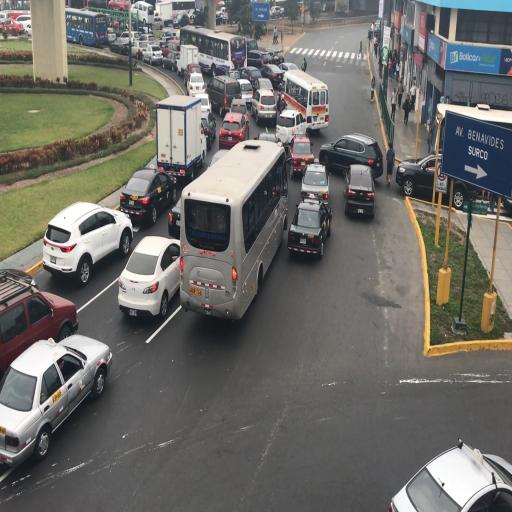auto: (1, 333, 113, 471), (1, 269, 76, 393), (388, 438, 510, 510), (42, 196, 131, 280), (396, 150, 491, 208), (118, 234, 182, 318), (180, 248, 234, 318), (120, 164, 177, 224), (321, 132, 378, 180), (344, 163, 374, 218), (251, 130, 289, 171), (300, 160, 328, 206), (218, 110, 250, 149), (274, 108, 306, 146), (288, 135, 316, 178), (252, 86, 277, 126), (260, 63, 286, 90), (195, 94, 214, 130), (240, 65, 264, 93), (234, 76, 254, 108), (247, 48, 274, 71), (184, 61, 205, 90), (229, 96, 250, 124), (141, 43, 163, 65), (131, 36, 151, 58), (161, 50, 181, 71), (188, 78, 206, 100), (15, 14, 32, 36), (278, 61, 299, 76), (172, 11, 185, 27), (269, 6, 281, 19)
bus: (180, 139, 284, 315), (281, 68, 328, 133), (180, 25, 232, 77), (66, 6, 108, 48), (168, 0, 200, 27), (130, 0, 154, 26)
camion: (156, 94, 204, 189), (178, 43, 200, 79)
